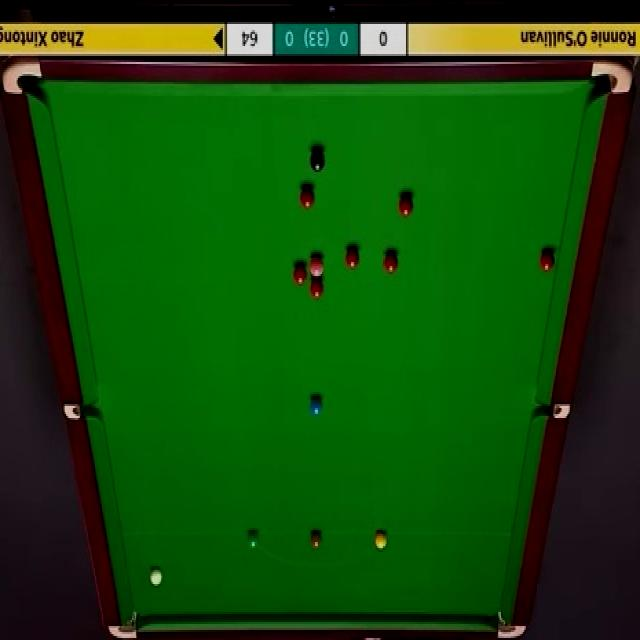black-ball: (309, 148, 326, 173)
blue-ball: (310, 394, 322, 416)
brown-ball: (310, 530, 322, 547)
green-ball: (247, 530, 258, 550)
pink-ball: (309, 252, 325, 277)
red-ball: (384, 249, 401, 277), (540, 248, 558, 272), (291, 262, 308, 287), (398, 192, 414, 218), (309, 276, 324, 300), (346, 245, 360, 270)
white-ball: (148, 564, 164, 590)
yellow-ball: (375, 530, 389, 551)
